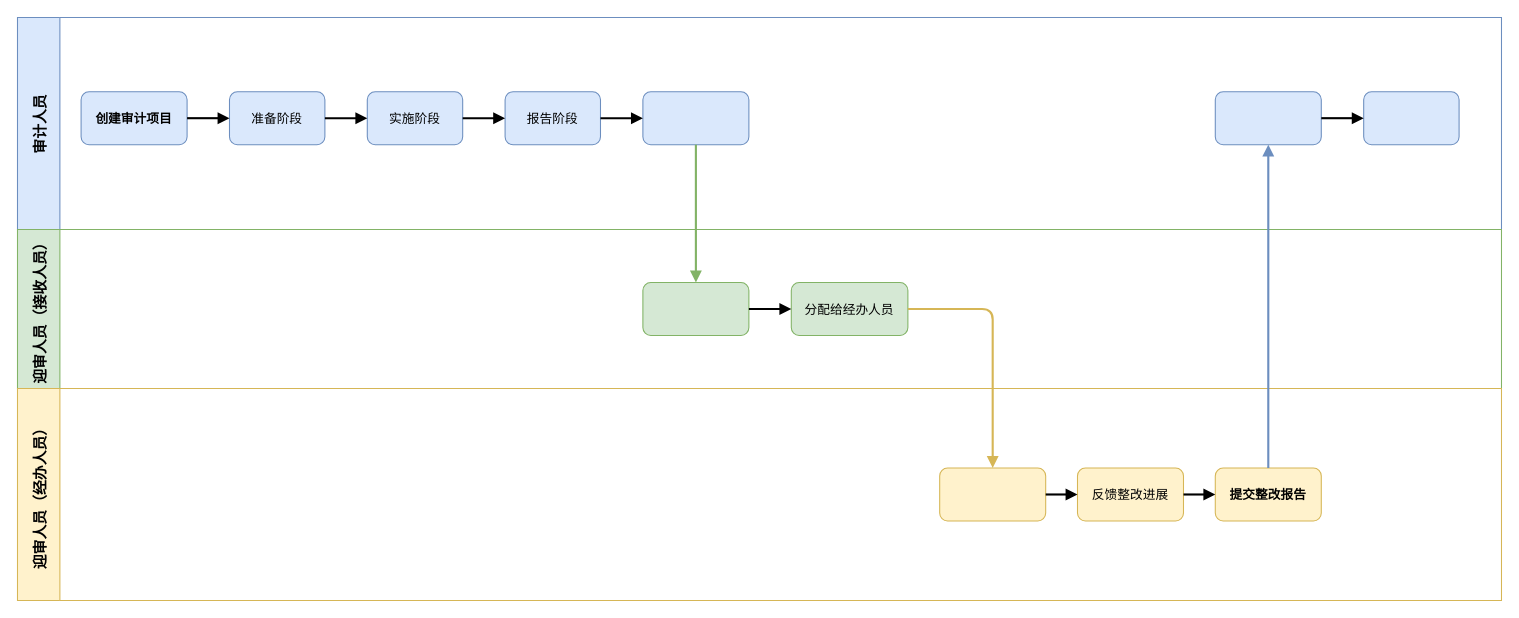
Image size: 1519x618. Some labels were removed from this diagram. Here are the shapes that lost their labels. From the top down, the centre of each, then its label:
At point 695,118: "下发整改问题".
At point 1267,118: "审核整改结果".
At point 1411,118: "后续审计".
At point 695,308: "接收整改问题".
At point 992,494: "提交整改方案".
